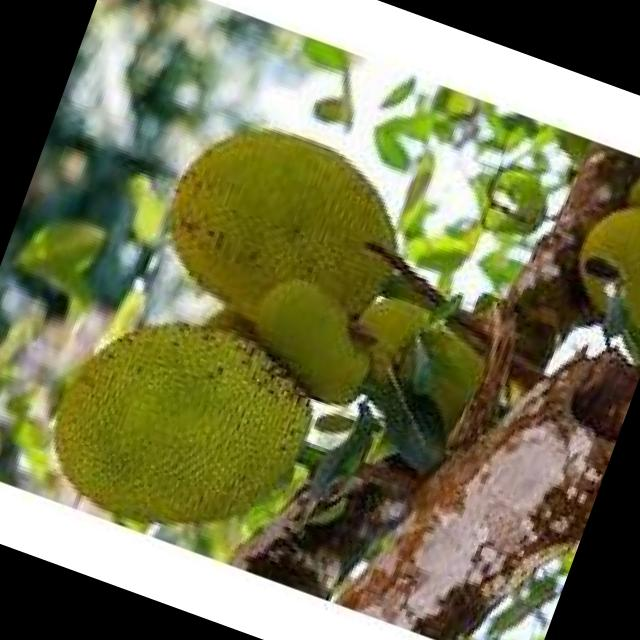Fruit: (98, 74, 460, 434), (14, 256, 350, 579)
